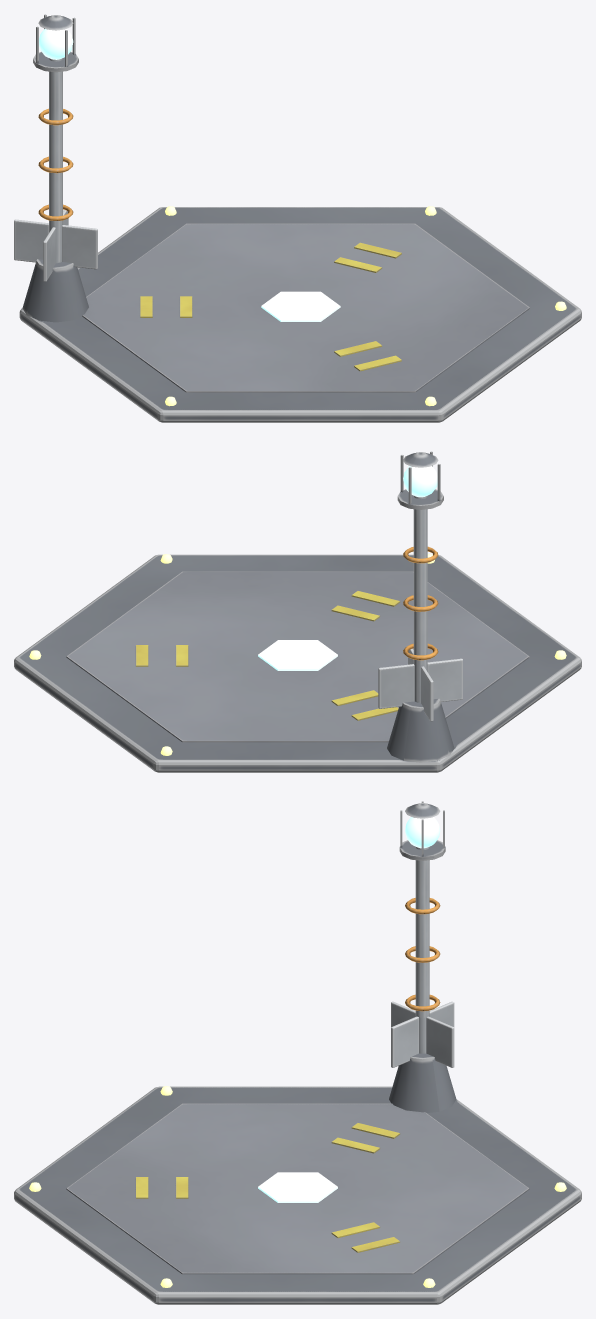
Rendered from evac_beacon_painted.glb.
The picture shows the model from 3 angles, top to bottom: view 1: azimuth 30°, elevation 25°; view 2: azimuth 150°, elevation 25°; view 3: azimuth 270°, elevation 25°; orthographic projection.
Parts seen in each view (by area): view 1: EvacBeacon, Lamp; view 2: EvacBeacon, Lamp; view 3: EvacBeacon, Lamp.
Part boxes in pixels (x1=…): EvacBeacon: x1=14, y1=14, x2=581, y2=422; Lamp: x1=39, y1=29, x2=73, y2=59; EvacBeacon: x1=14, y1=451, x2=581, y2=772; Lamp: x1=403, y1=466, x2=437, y2=497; EvacBeacon: x1=14, y1=801, x2=581, y2=1304; Lamp: x1=405, y1=817, x2=440, y2=848.
Size of the model in its own units: 5.55 by 3.8 by 6.38.
Materials: 7 (5 with a texture image).
